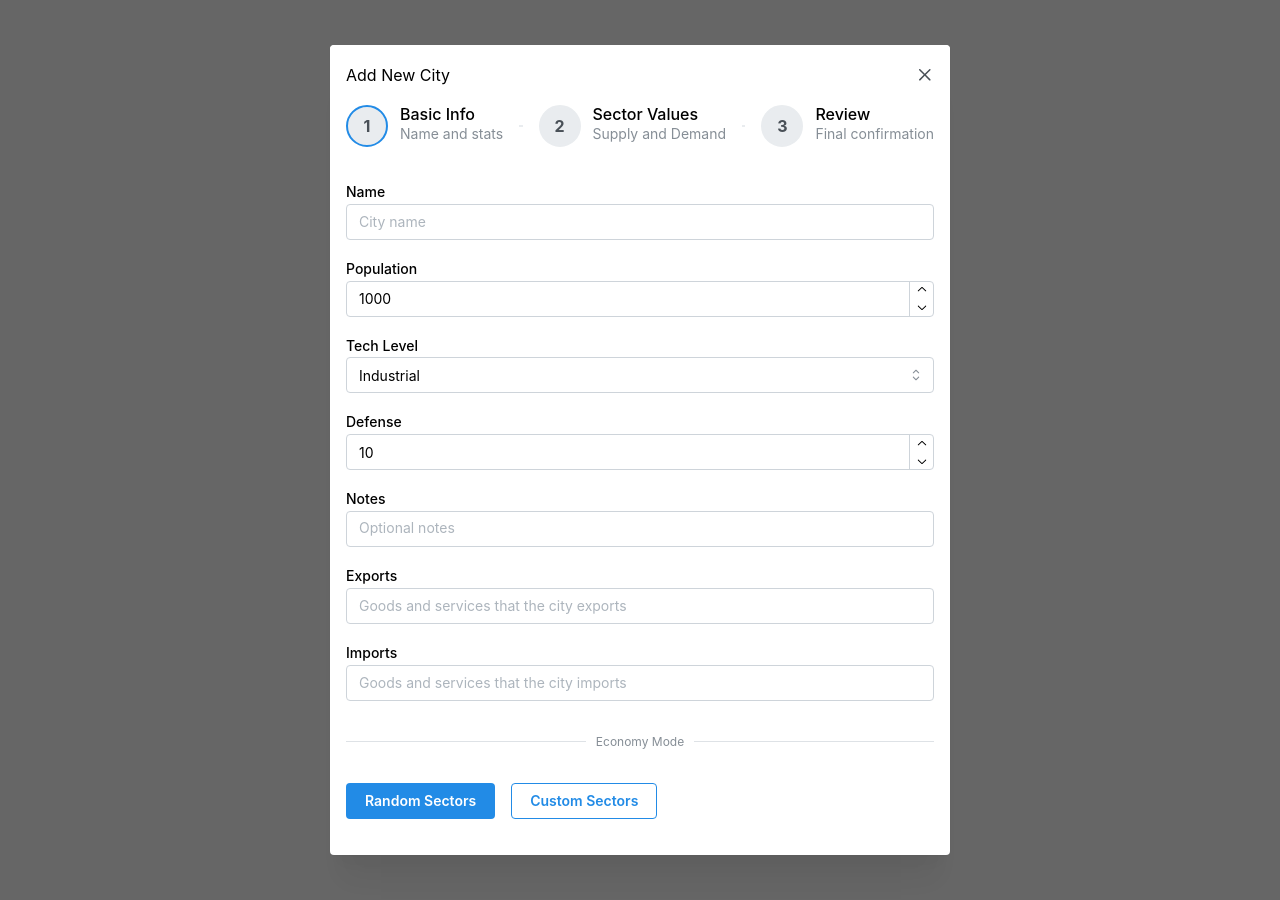
Test case: AddCityWizard › shows Re-roll button on Sector Values step in random mode and updates values
The width and height of the screenshot is (1280, 900).
Type "Random City" into the field labelled "Name" at (640, 222), box x1=346 y1=204 x2=934 y2=240
(page scrolled)
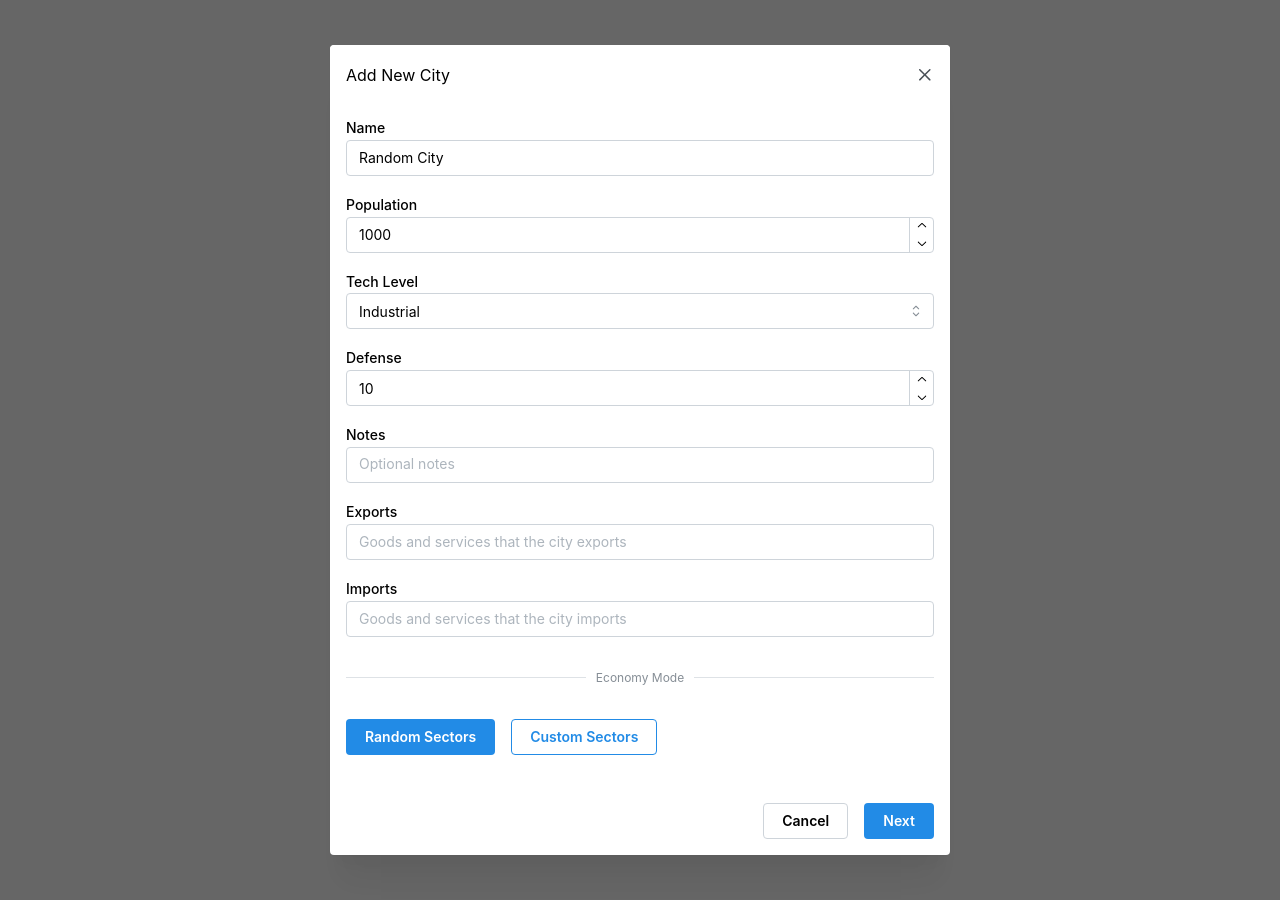
Click the button "Next" at (899, 821), box x1=864 y1=803 x2=934 y2=839
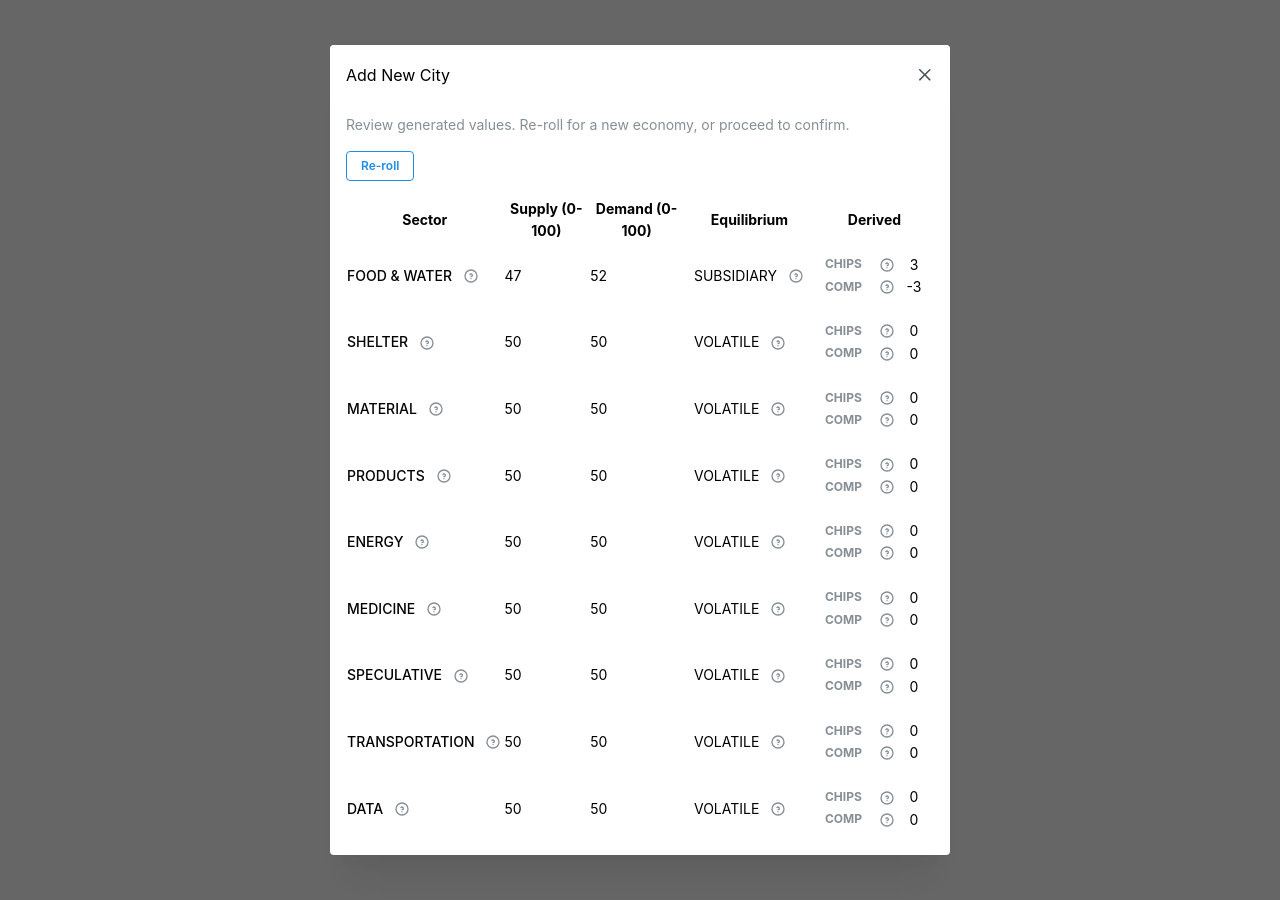
Now the button "Re-roll" is shown
Now the text "47" is shown, box x1=504 y1=267 x2=522 y2=284
Now the text "52" is shown, box x1=590 y1=267 x2=607 y2=284
Click the button "Re-roll" at (380, 166), box x1=346 y1=151 x2=414 y2=181
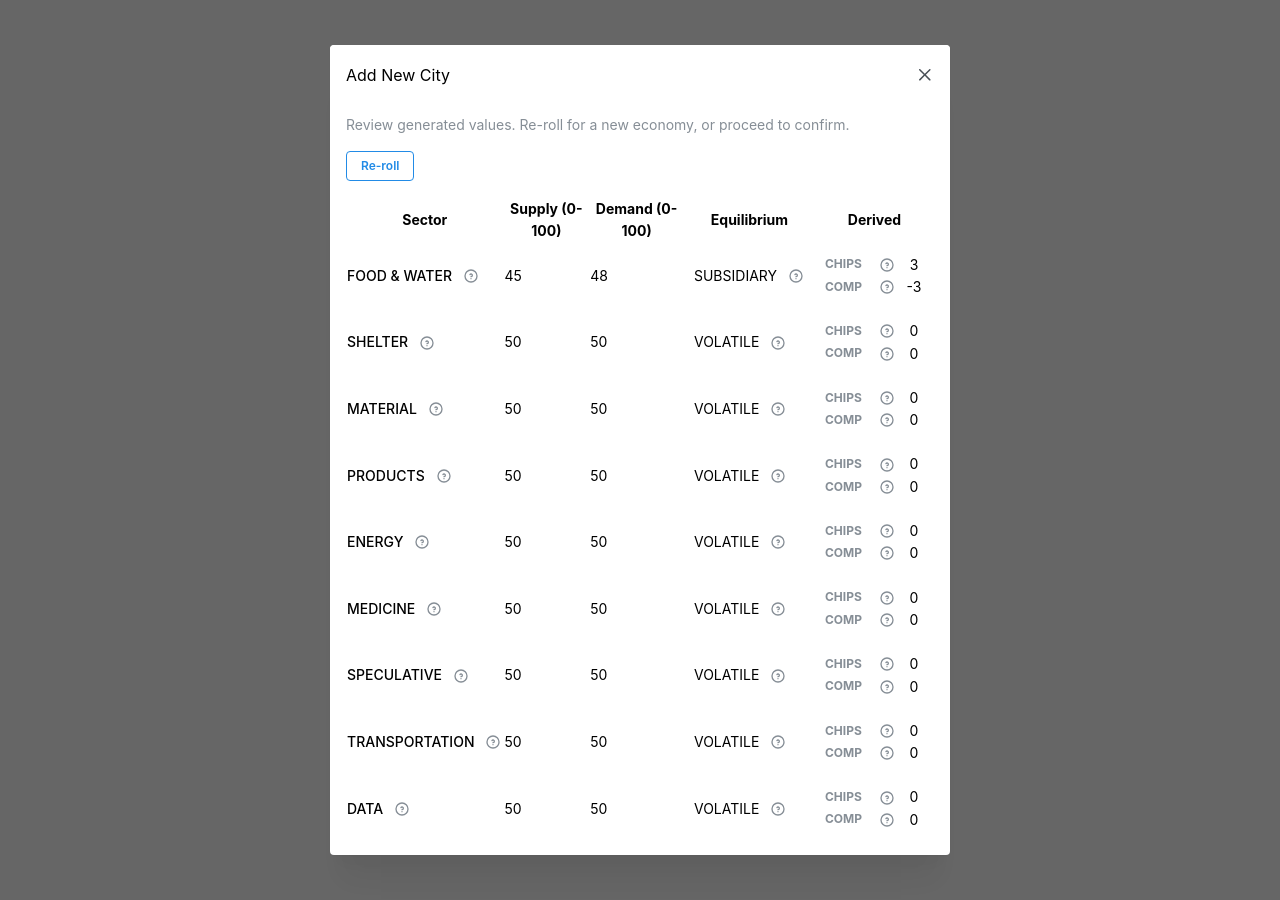
Now the text "45" is shown, box x1=504 y1=267 x2=522 y2=284
Now the text "48" is shown, box x1=590 y1=267 x2=608 y2=284
Now the text "47" is gone
